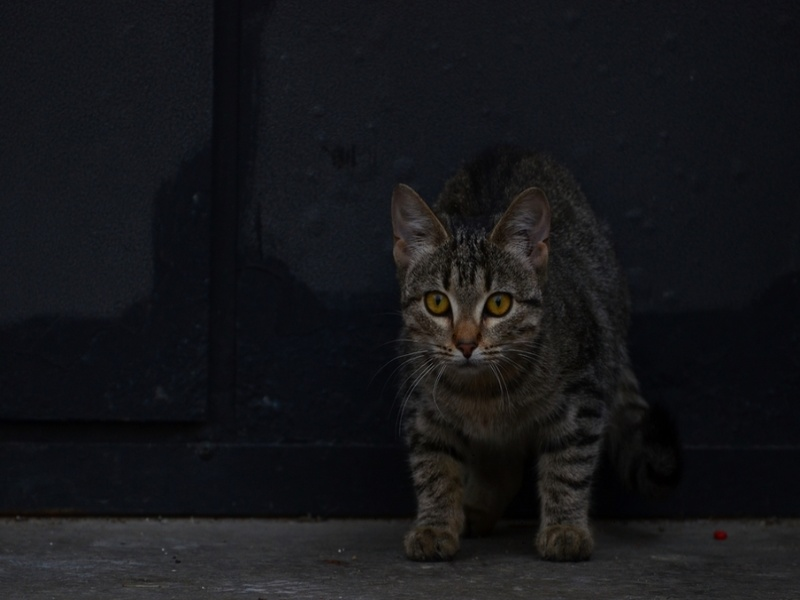cat: (381, 133, 689, 569)
